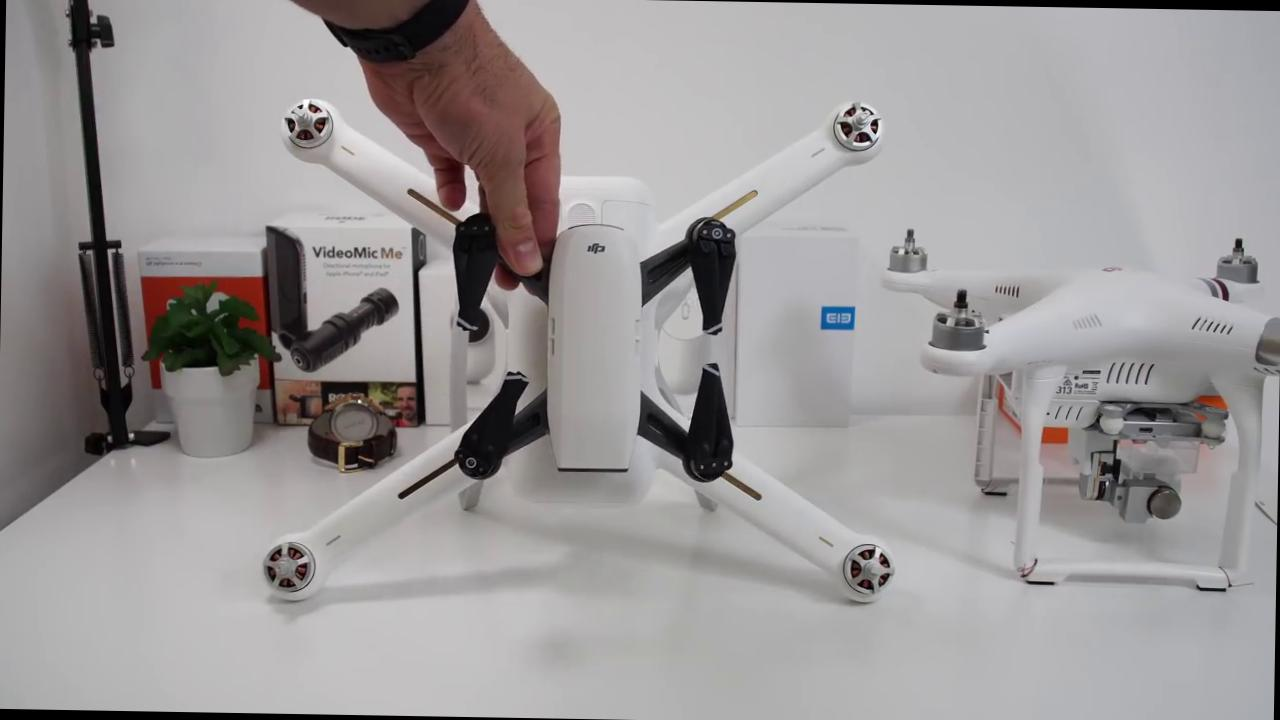drone: (244, 65, 926, 608), (867, 215, 1280, 402)
